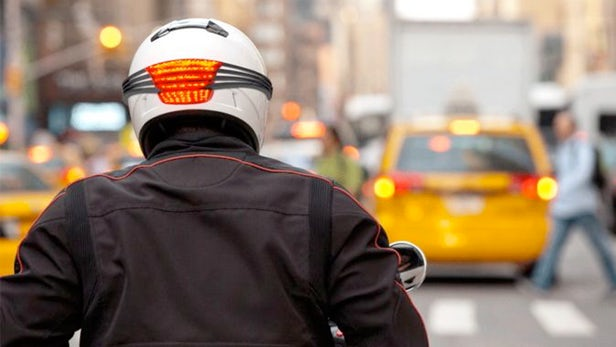helmet: (107, 12, 285, 178)
